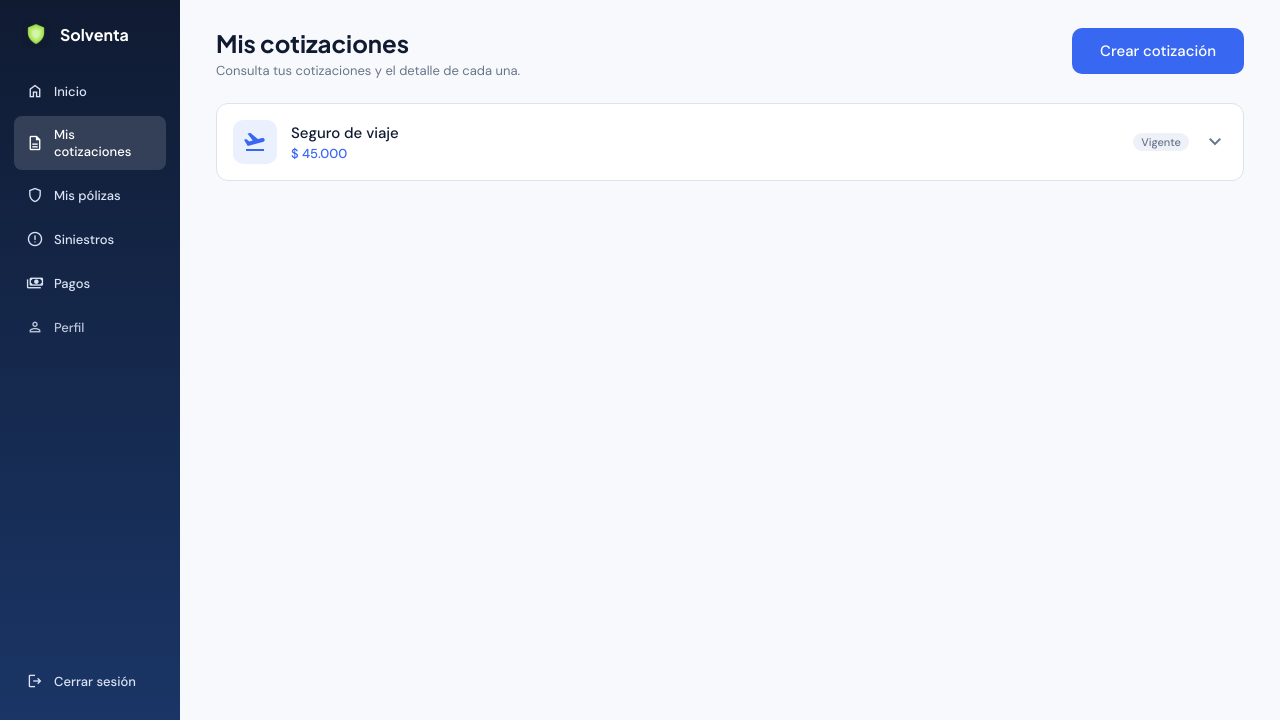
Scenario: despliega el detalle con los datos del formulario al hacer clic
Click the button "Seguro de viaje $ 45.000 Vigente" at (255, 142), box [217, 104, 1243, 180]
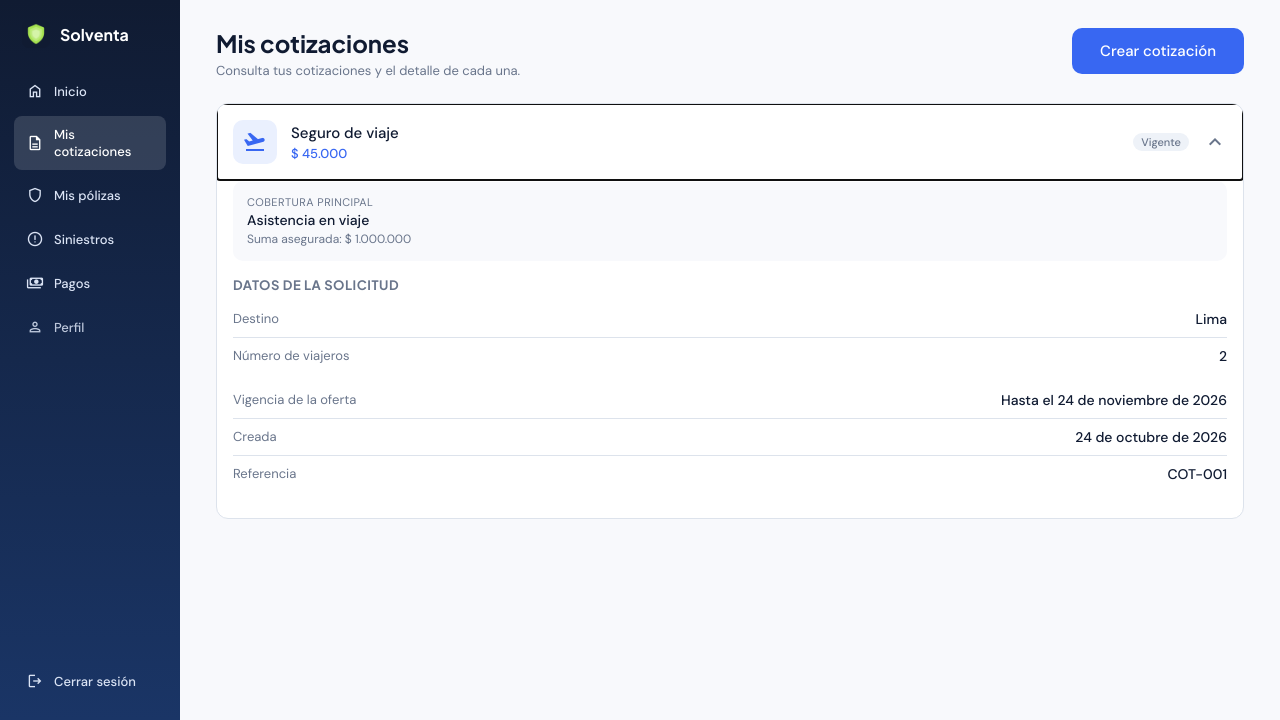
Expected: the text "Destino" is shown, [233, 310, 279, 328]
Expected: the text "Lima" is shown, [1196, 310, 1227, 328]
Expected: the text "Número de viajeros" is shown, [233, 347, 350, 365]
